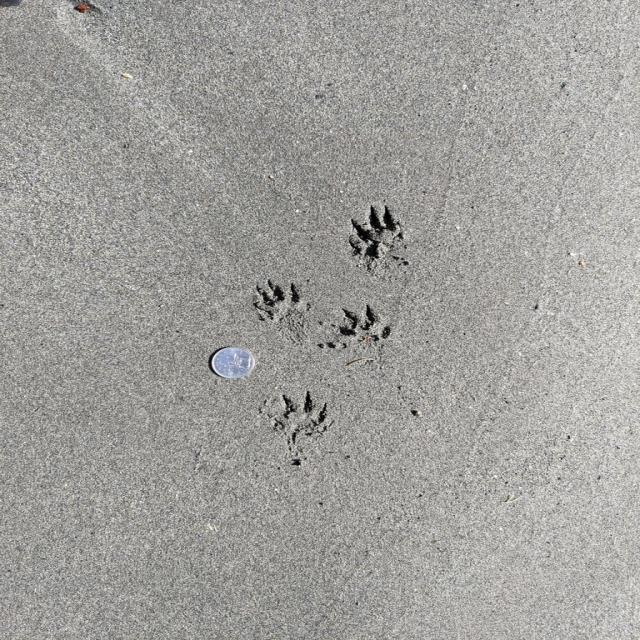mustelid: (322, 302, 399, 366), (267, 391, 336, 457), (345, 206, 411, 270), (244, 276, 314, 330)
